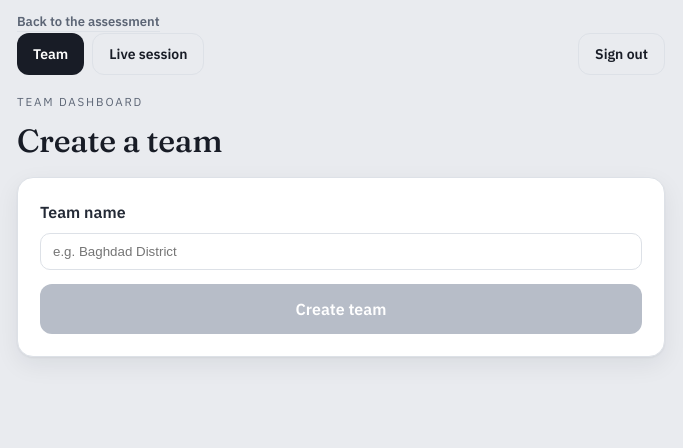
Test: ManagerApp › creates a team and shows the join code when the manager has none yet
Step 1. Type "District A" into the field with placeholder "e.g. Baghdad District" → (341, 252), box [40,233,642,270]
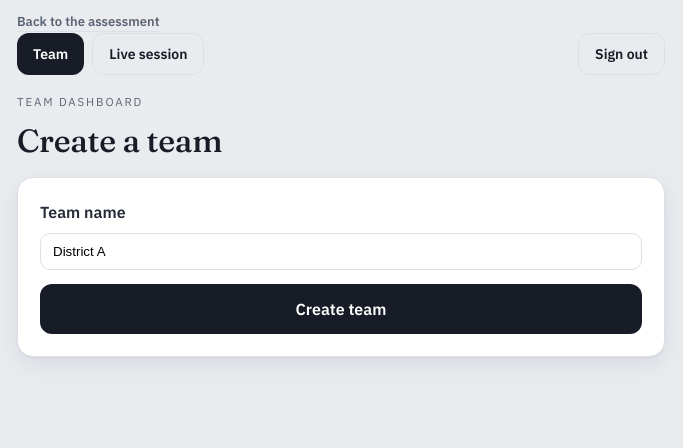
Step 2. Click the button "Create team" → (341, 309), box [40,284,642,334]
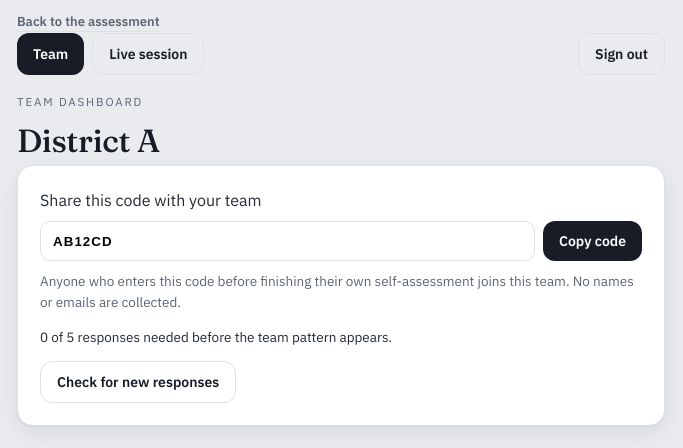
Expected: the field showing "AB12CD" is shown, [40,221,535,261]
